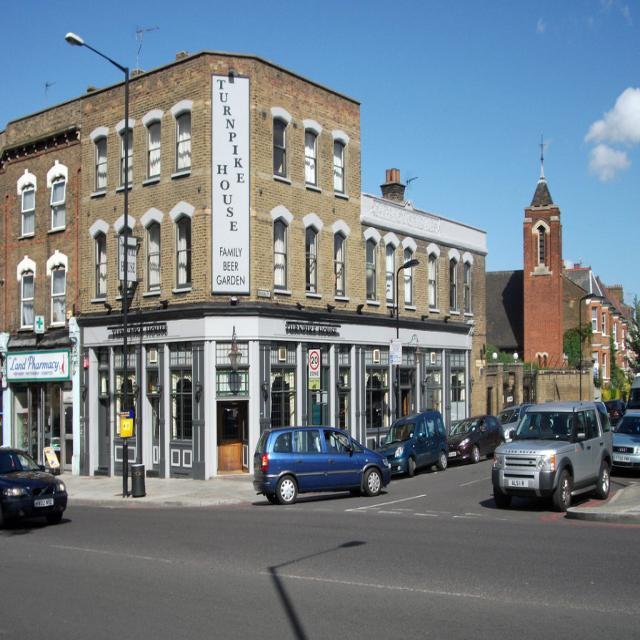car: (247, 420, 408, 499), (501, 398, 611, 505)
